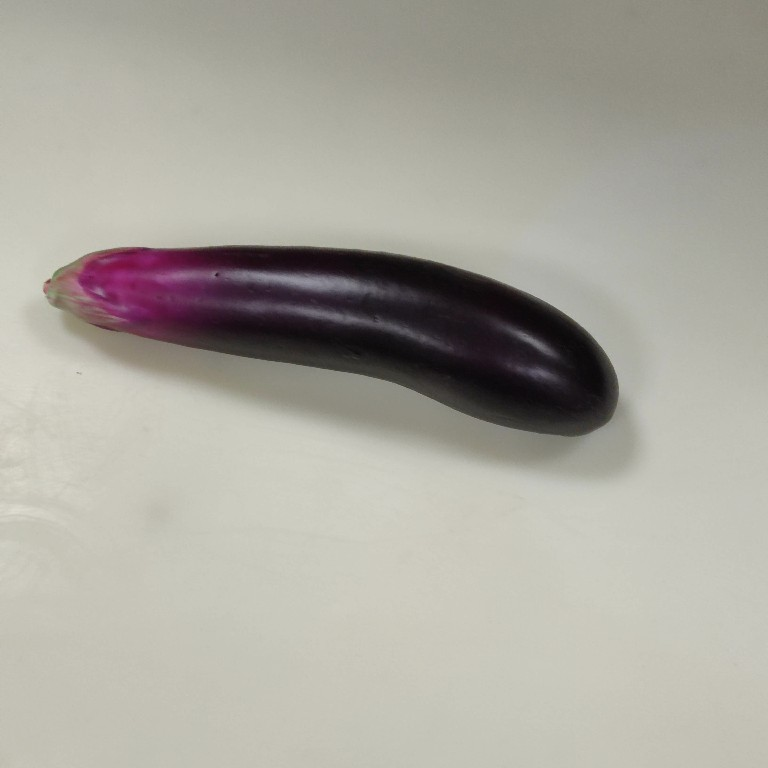fruit_eggplant: (34, 239, 629, 443)
